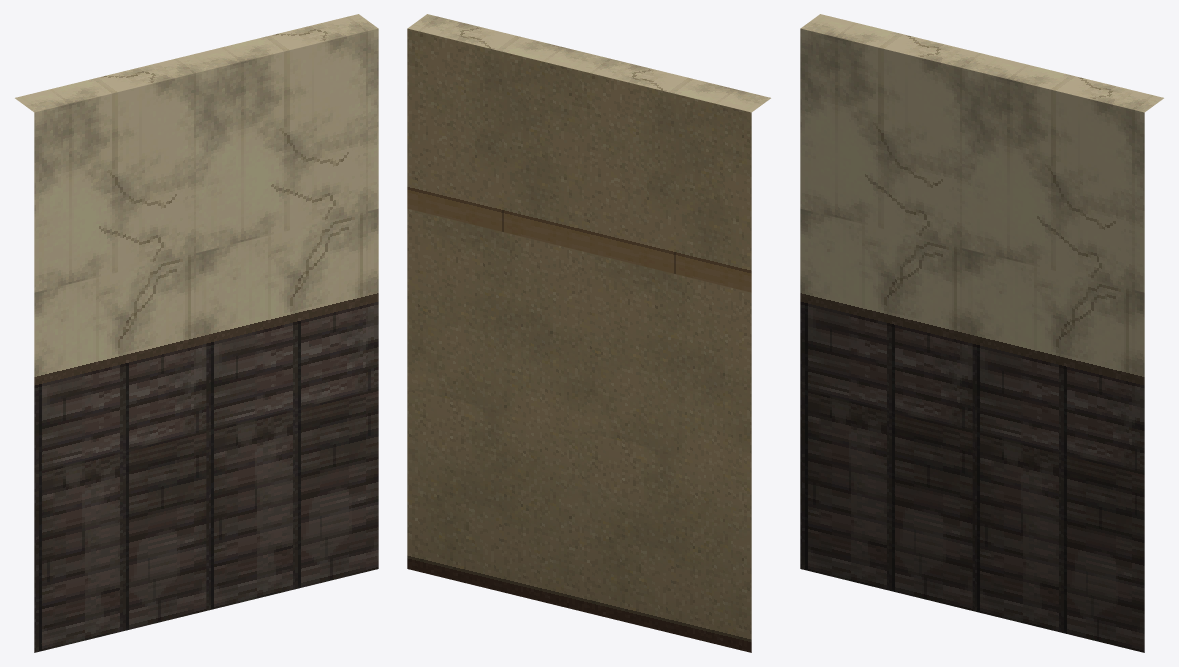
File: wall_board.glb
The picture shows the model from 3 angles, left to right: view 1: azimuth 30°, elevation 25°; view 2: azimuth 150°, elevation 25°; view 3: azimuth 330°, elevation 25°; orthographic projection.
Parts seen in each view (by area): view 1: wall_board; view 2: wall_board; view 3: wall_board.
Part boxes in pixels (box(x1,y1,x2,y2)): wall_board: box(15, 14, 378, 652); wall_board: box(407, 14, 770, 652); wall_board: box(800, 14, 1163, 652).
Bounding box in the file's own units: 2 × 3 × 0.2.
1 material, 1 textured.
